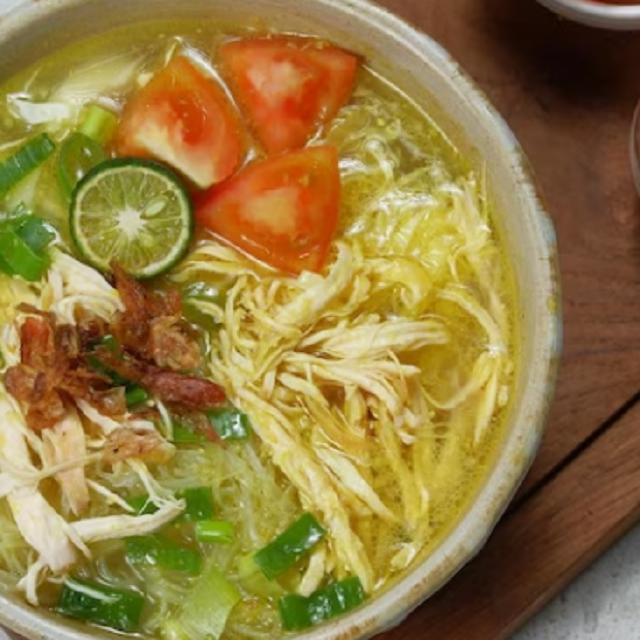Soto: (0, 24, 514, 626)
